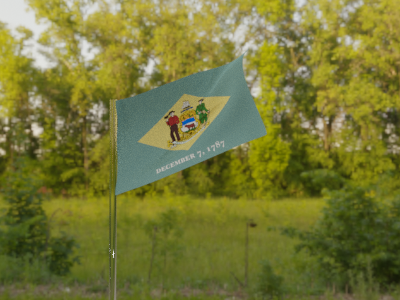Delaware flag: (114, 54, 267, 196)
